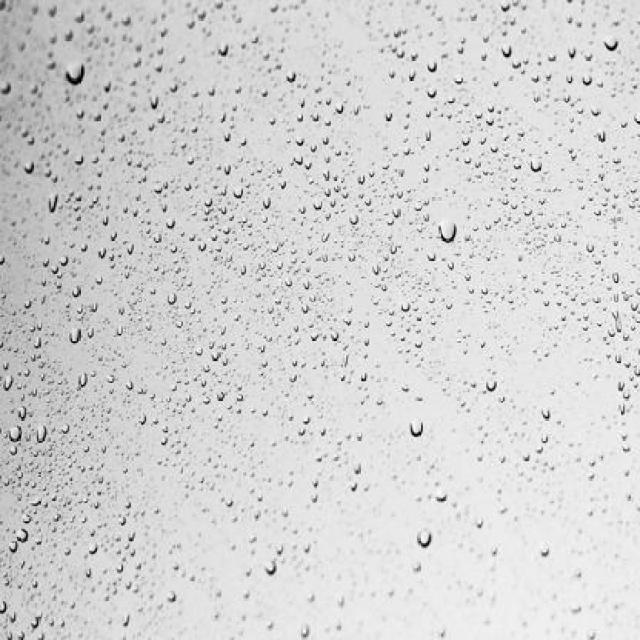raindrop: (254, 544, 286, 592), (202, 27, 236, 72), (58, 56, 96, 94), (402, 412, 432, 451), (434, 220, 466, 256), (490, 26, 520, 61), (522, 146, 547, 183), (414, 528, 441, 562), (418, 78, 446, 109), (162, 282, 189, 314), (259, 192, 287, 220), (581, 94, 606, 125), (16, 154, 42, 182), (281, 67, 306, 95), (193, 234, 218, 262), (42, 184, 62, 216), (598, 26, 620, 54), (54, 244, 76, 272), (532, 403, 556, 428), (482, 368, 505, 394), (1, 424, 23, 450), (35, 421, 55, 448), (144, 94, 166, 118), (426, 54, 444, 82), (230, 184, 250, 208), (66, 324, 84, 349), (0, 64, 13, 96), (93, 240, 109, 264), (124, 235, 142, 256), (0, 594, 15, 619), (161, 208, 175, 232), (17, 523, 32, 545), (351, 214, 365, 236), (298, 160, 312, 178)
